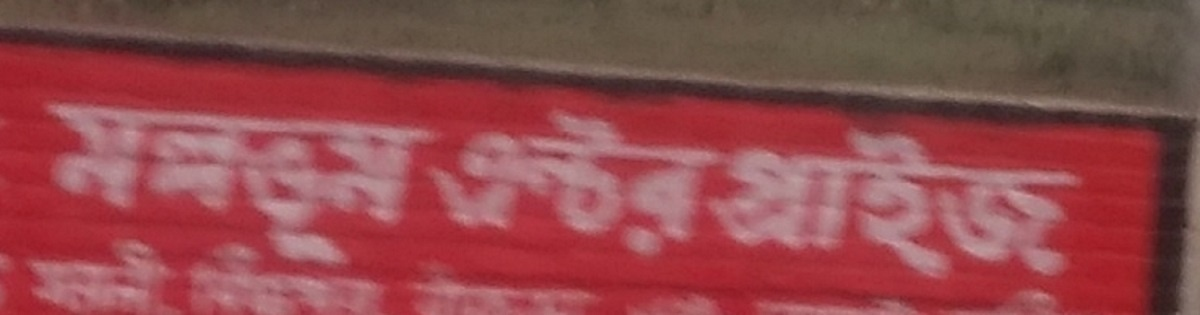text: (465, 103, 480, 300), (481, 103, 496, 300), (497, 103, 512, 300), (513, 103, 528, 300), (529, 103, 544, 300), (545, 103, 560, 300), (561, 103, 576, 300), (577, 103, 592, 300), (593, 103, 608, 300), (609, 103, 624, 300), (625, 103, 640, 300), (641, 103, 656, 300), (657, 103, 672, 300), (673, 103, 688, 300), (689, 103, 704, 300), (705, 103, 720, 300), (721, 103, 736, 300), (737, 103, 752, 300), (753, 103, 768, 300), (769, 103, 784, 300), (785, 103, 800, 300), (801, 103, 816, 300), (817, 103, 832, 300), (833, 103, 848, 300), (849, 103, 864, 300), (865, 103, 880, 300), (881, 103, 896, 300), (897, 103, 912, 300), (913, 103, 928, 300), (929, 103, 944, 300), (945, 103, 960, 300), (961, 103, 976, 300), (977, 103, 992, 300), (993, 103, 1008, 300), (1009, 103, 1024, 300), (1025, 103, 1040, 300), (1041, 103, 1056, 300), (1057, 103, 1072, 300), (1073, 103, 1088, 300), (33, 81, 48, 270), (49, 81, 64, 270), (65, 81, 80, 270), (81, 81, 96, 270), (97, 81, 112, 270), (113, 81, 128, 270), (129, 81, 144, 270), (145, 81, 160, 270), (161, 81, 176, 270), (177, 81, 192, 270), (193, 81, 208, 270), (209, 81, 224, 270), (225, 81, 240, 270), (241, 81, 256, 270), (257, 81, 272, 270), (273, 81, 288, 270), (289, 81, 304, 270), (305, 81, 320, 270), (321, 81, 336, 270), (337, 81, 352, 270), (353, 81, 368, 270), (369, 81, 384, 270), (385, 81, 400, 270), (401, 81, 416, 270), (417, 81, 432, 270), (433, 81, 446, 270), (1089, 103, 1099, 300), (459, 103, 464, 300), (17, 250, 32, 314), (33, 250, 48, 314), (49, 250, 64, 314), (65, 250, 80, 314), (81, 250, 96, 314), (97, 250, 112, 314), (113, 250, 128, 314), (129, 250, 144, 314), (145, 250, 160, 314), (161, 250, 176, 314), (27, 81, 32, 270), (193, 256, 208, 315), (209, 256, 224, 315), (225, 256, 240, 315), (241, 256, 256, 315), (257, 256, 272, 315), (273, 256, 288, 315), (289, 256, 304, 315), (305, 256, 320, 315), (321, 256, 336, 315), (337, 256, 352, 315), (353, 256, 368, 315), (369, 256, 384, 315), (385, 256, 398, 315), (433, 268, 448, 314), (449, 268, 464, 314), (465, 268, 480, 314), (481, 268, 496, 314), (497, 268, 512, 314), (513, 268, 528, 314), (529, 268, 544, 314), (545, 268, 560, 314), (561, 268, 576, 314), (577, 268, 592, 314), (593, 268, 608, 314), (609, 268, 624, 314), (625, 268, 640, 314), (641, 268, 656, 314), (657, 268, 672, 314), (673, 268, 688, 314), (689, 268, 704, 314), (705, 268, 720, 314), (721, 268, 736, 314), (737, 268, 752, 314), (753, 268, 768, 314), (769, 268, 784, 314), (785, 268, 800, 314), (801, 268, 816, 314), (817, 268, 832, 314), (833, 268, 848, 314), (849, 268, 864, 314), (865, 268, 880, 314), (881, 268, 896, 314), (897, 268, 912, 314), (913, 268, 928, 314), (929, 268, 944, 314), (945, 268, 960, 314), (961, 268, 976, 314), (977, 268, 992, 314), (993, 268, 1008, 314), (1009, 268, 1024, 314), (1025, 268, 1040, 314), (182, 256, 192, 315), (420, 268, 432, 314), (177, 250, 179, 314), (1041, 268, 1042, 314)
